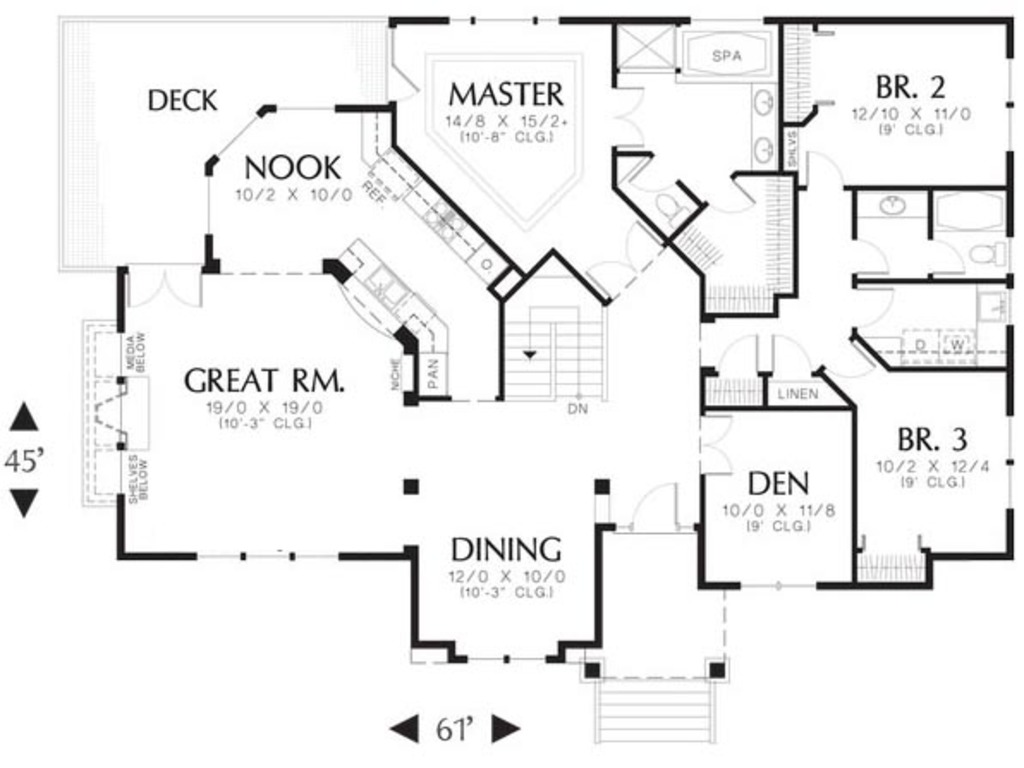door: (576, 219, 674, 296), (121, 256, 211, 313), (607, 76, 650, 152), (704, 169, 759, 223), (631, 486, 688, 536), (699, 413, 742, 479), (820, 336, 879, 383), (711, 327, 761, 380), (767, 332, 820, 382), (843, 282, 893, 329), (923, 236, 971, 282), (623, 156, 676, 197), (798, 152, 848, 192), (852, 230, 889, 278), (389, 65, 418, 105)
large_sink: (964, 237, 1017, 276), (654, 189, 695, 232)
small_sink: (752, 86, 783, 166), (854, 190, 924, 221)
stairs: (504, 305, 619, 416), (588, 668, 736, 750)
tub: (678, 19, 782, 86), (919, 185, 1013, 233)
twin_sink: (352, 259, 424, 322)
